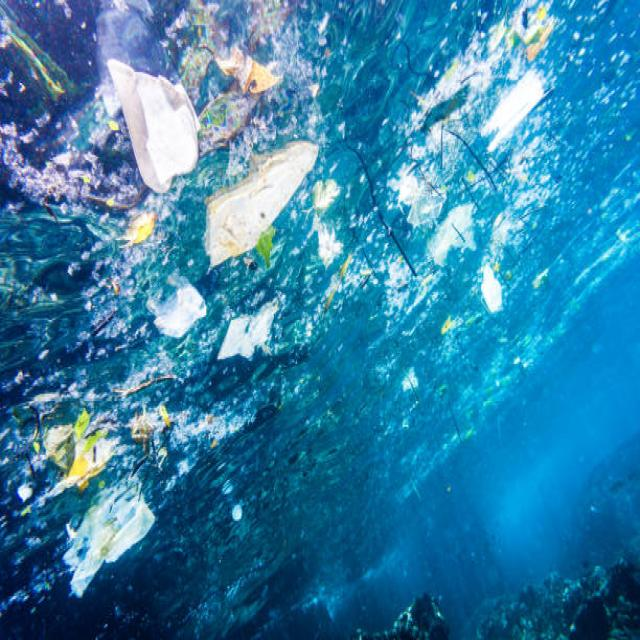garbage: (18, 386, 186, 588), (103, 44, 201, 195), (205, 146, 319, 273), (386, 139, 458, 236), (218, 299, 294, 383), (144, 273, 210, 344)
